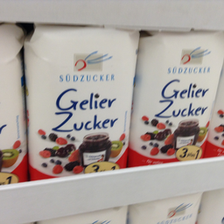sugar: (23, 24, 139, 180), (125, 30, 223, 165)
